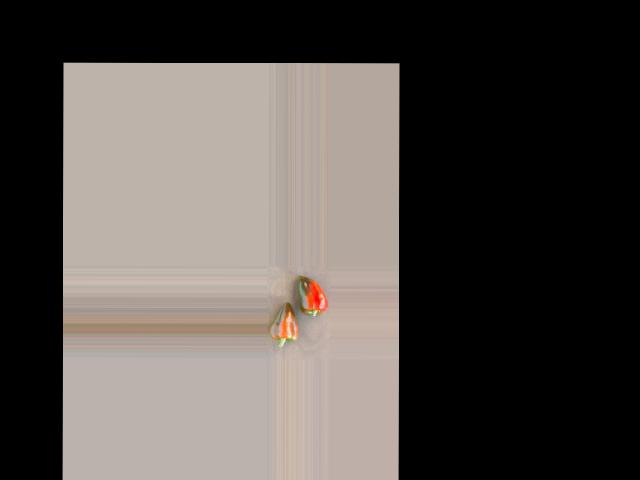bell_pepper: (295, 273, 329, 330)
